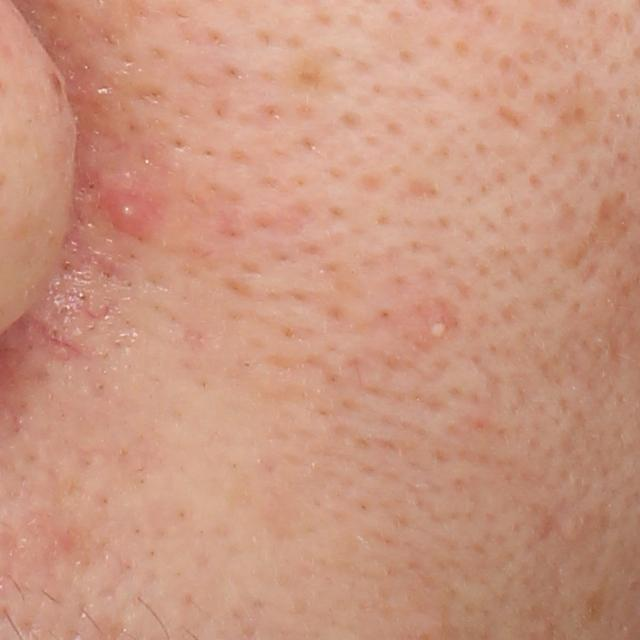atrophic_scar: (246, 204, 321, 239), (490, 104, 537, 139), (402, 178, 442, 203)
pustule: (420, 308, 457, 341)
